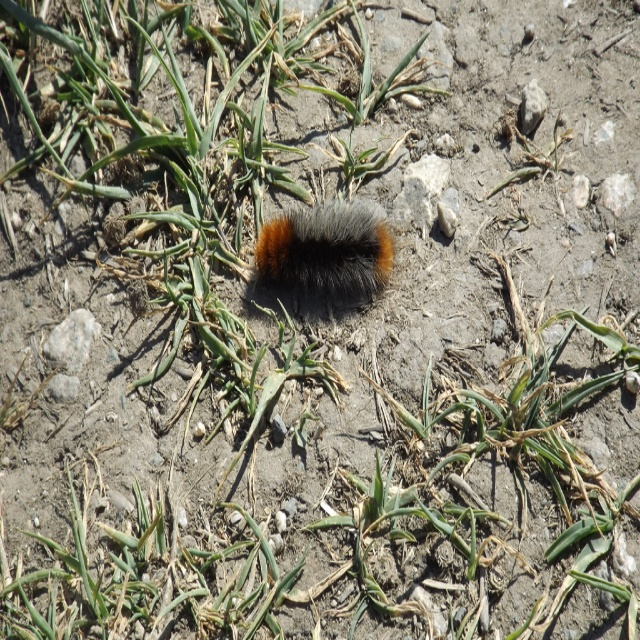Caterpillar: (235, 176, 393, 329)
